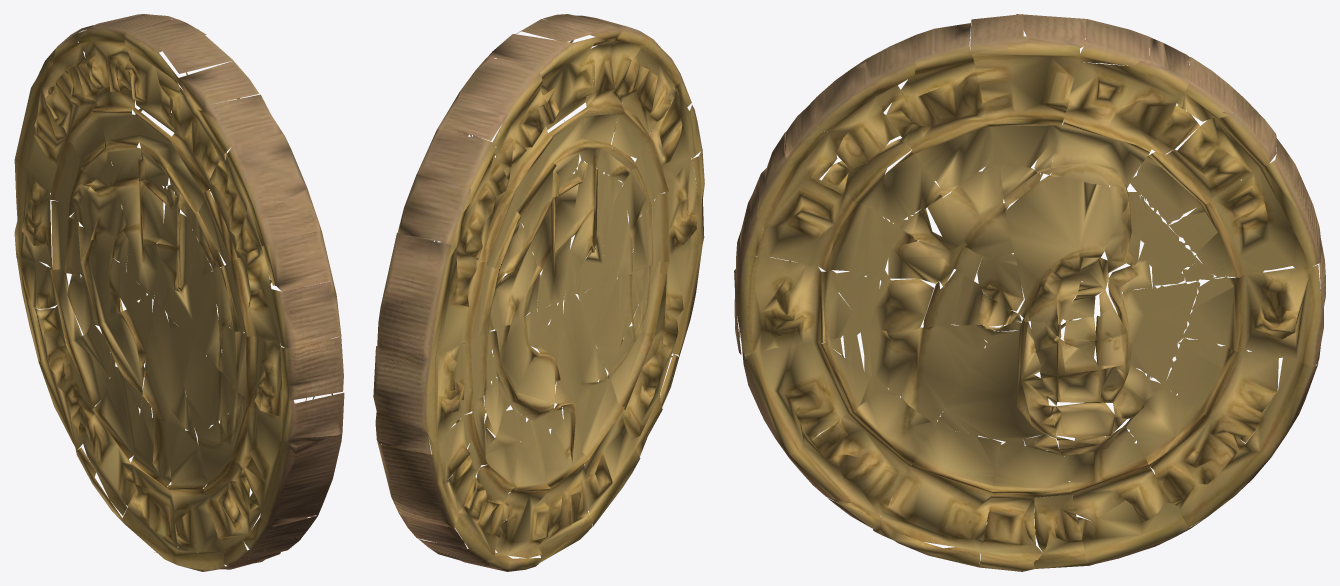
File: coin_small.temple.glb
3 renders of one model, left to right at view 1: azimuth 30°, elevation 25°; view 2: azimuth 150°, elevation 25°; view 3: azimuth 270°, elevation 25°, orthographic. The views are drawn at different scales.
Visible parts, largest first — view 1: tripo_node_fa82c664-e192-4684-b379-985c2db40f0e; view 2: tripo_node_fa82c664-e192-4684-b379-985c2db40f0e; view 3: tripo_node_fa82c664-e192-4684-b379-985c2db40f0e.
Part boxes in pixels (box(x1,y1,x2,y2)): tripo_node_fa82c664-e192-4684-b379-985c2db40f0e: box(14, 14, 344, 571); tripo_node_fa82c664-e192-4684-b379-985c2db40f0e: box(373, 14, 704, 571); tripo_node_fa82c664-e192-4684-b379-985c2db40f0e: box(734, 14, 1325, 571).
Size of the model in its own units: 0.217 by 0.9977 by 1.
Materials: 1 (1 with a texture image).
